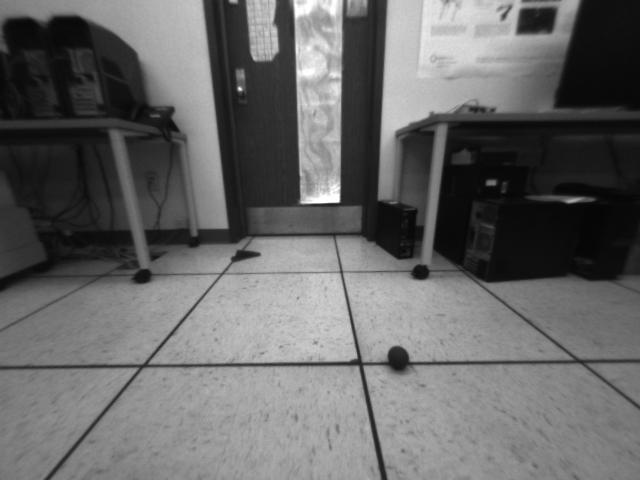dogtoy: (380, 341, 417, 375)
